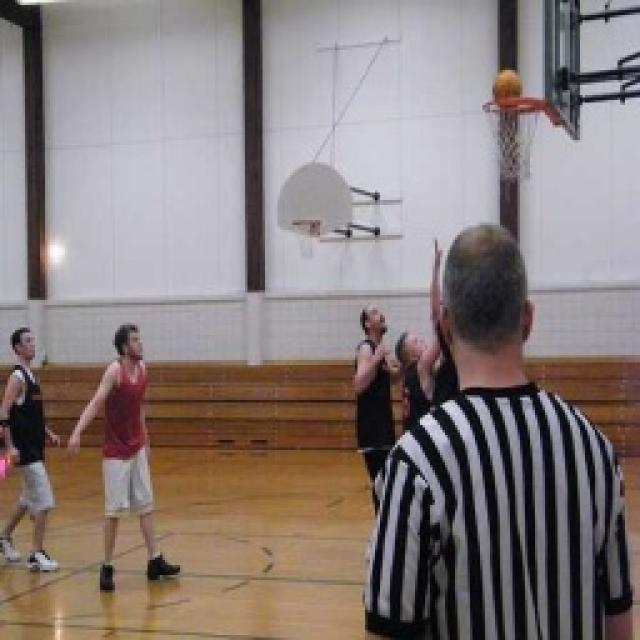basketball: (492, 69, 523, 102)
